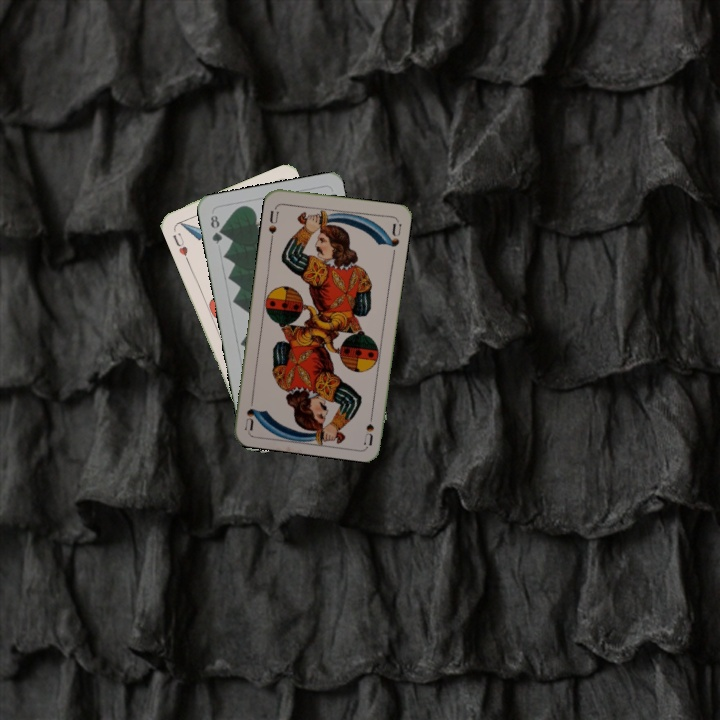G8: (206, 211, 225, 246)
HU: (169, 229, 191, 264)
SU: (264, 203, 281, 243), (359, 406, 376, 446)
